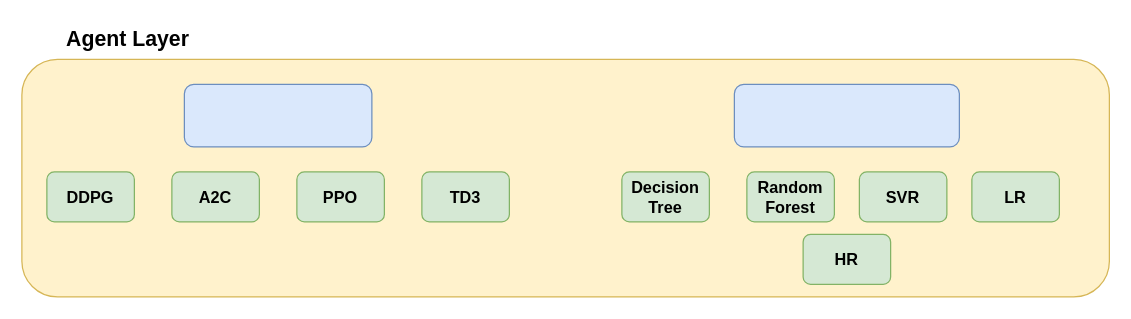
This 1131x319 diagram has some shape labels left out. The shapes that lost their labels are listed below. From the top down, each one's box as (x1, y1, x2, y2) in pixels, then its label:
(183, 83, 372, 147): RL Agents
(733, 83, 959, 147): Conventional ML Models
